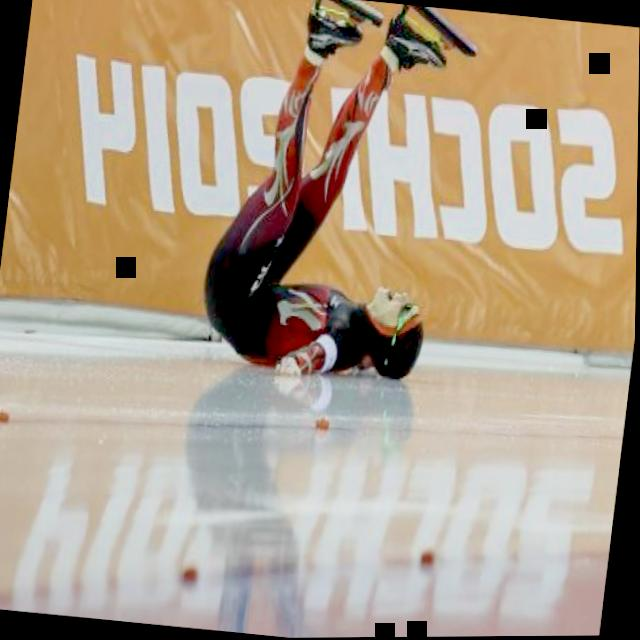Fall-Detected: (163, 0, 495, 394)
